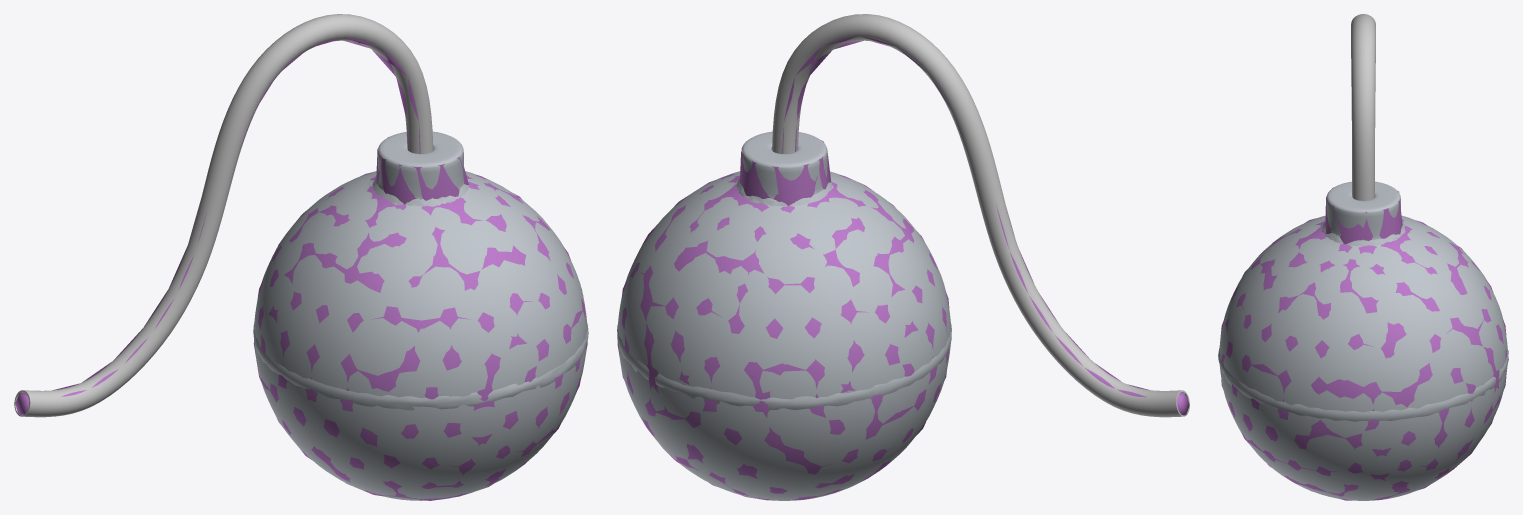
The model's file is [weapon] Bomb classic.fbx.
3 renders of one model, left to right at view 1: azimuth 30°, elevation 25°; view 2: azimuth 150°, elevation 25°; view 3: azimuth 270°, elevation 25°, orthographic. The views are drawn at different scales.
Visible parts, largest first — view 1: Bomb classic_LOD0, Bomb classic_PHYS; view 2: Bomb classic_LOD0, Bomb classic_PHYS; view 3: Bomb classic_LOD0, Bomb classic_PHYS.
Boxes of the visible parts, bbox=[...] form: Bomb classic_LOD0: bbox=[14, 14, 588, 500]; Bomb classic_PHYS: bbox=[15, 37, 587, 500]; Bomb classic_LOD0: bbox=[617, 14, 1189, 500]; Bomb classic_PHYS: bbox=[617, 36, 1189, 500]; Bomb classic_LOD0: bbox=[1218, 14, 1508, 500]; Bomb classic_PHYS: bbox=[1220, 187, 1506, 500].
Size of what is drawn, in the model's own units: 25.55 by 21.95 by 13.6.
